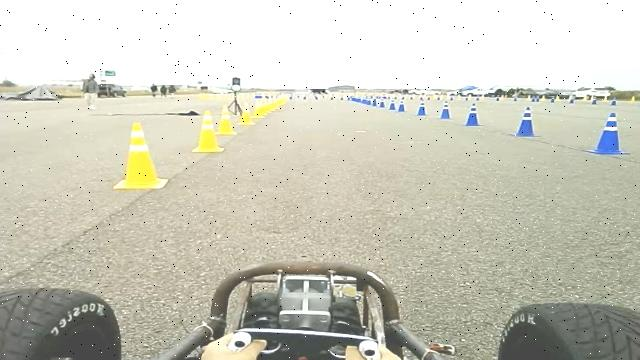blue cone: (586, 112, 632, 154), (512, 106, 541, 137), (463, 102, 484, 126), (439, 101, 452, 119), (416, 100, 428, 115), (398, 99, 407, 112), (379, 96, 386, 108), (390, 97, 396, 110), (372, 95, 378, 106), (366, 92, 371, 105)
yellow cone: (114, 121, 169, 190), (192, 109, 225, 152), (215, 104, 237, 135), (238, 101, 256, 125), (250, 98, 265, 118), (259, 97, 271, 114), (267, 93, 276, 112)
